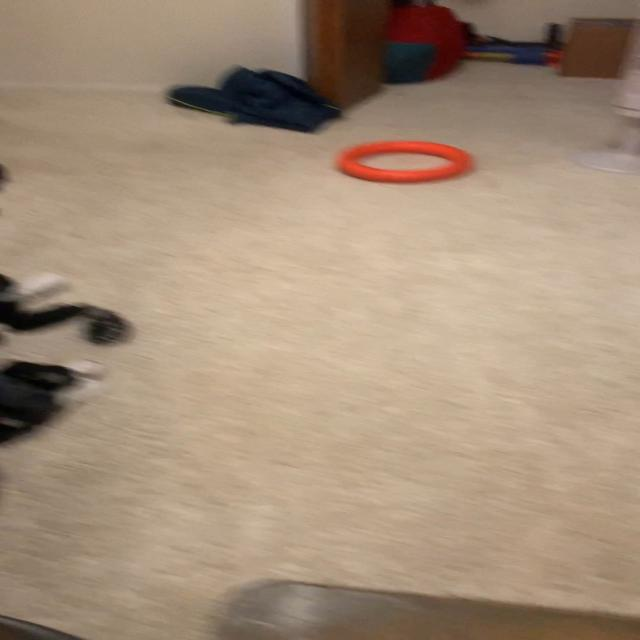notes: (334, 140, 473, 181)
